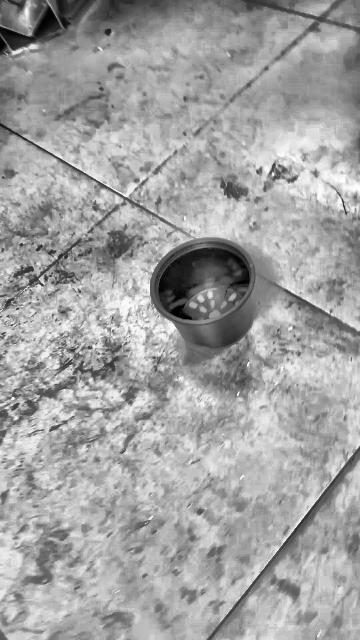pot: (150, 238, 255, 347)
